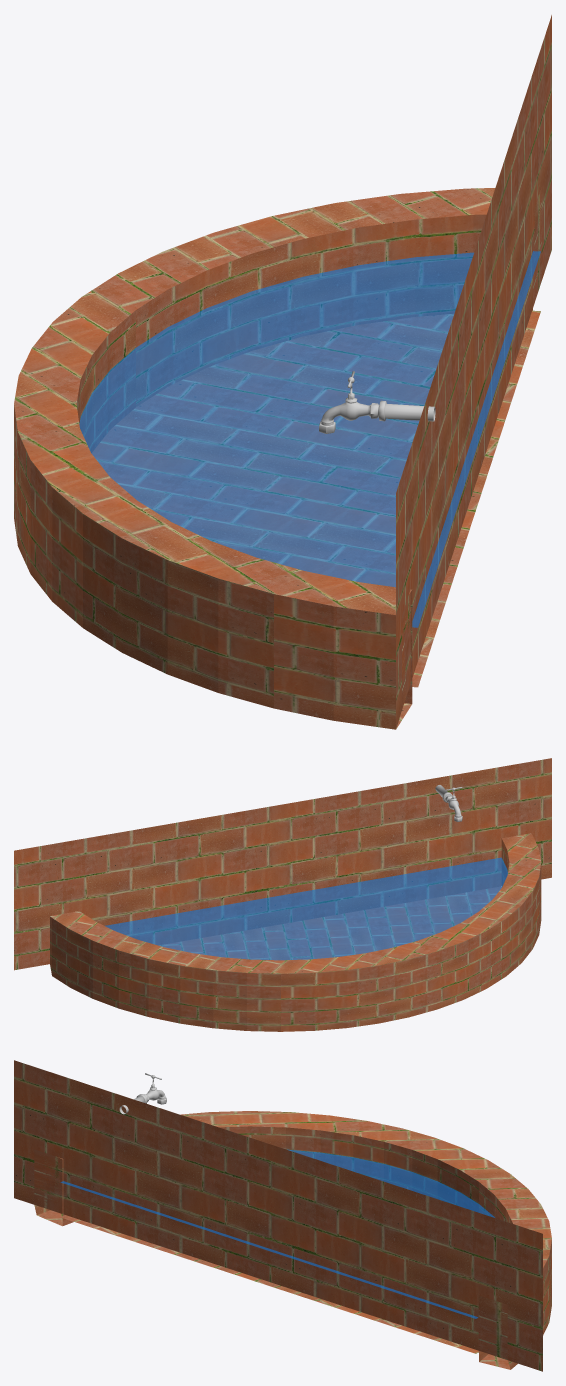
File: Oczko_wodne.fbx
The picture shows the model from 3 angles, top to bottom: view 1: azimuth 30°, elevation 25°; view 2: azimuth 150°, elevation 25°; view 3: azimuth 270°, elevation 25°; orthographic projection. The views are drawn at different scales.
Parts seen in each view (by area): view 1: Murek, Woda, murek_podwodą, Murek_na_ścianie, Kran; view 2: Murek_na_ścianie, Murek, Woda, murek_podwodą, Kran; view 3: Murek_na_ścianie, Murek, Woda, murek_podwodą, Kran.
Boxes of the visible parts, bbox=[...] form: Murek: bbox=[14, 187, 541, 729]; Woda: bbox=[79, 251, 540, 627]; murek_podwodą: bbox=[91, 310, 540, 687]; Murek_na_ścianie: bbox=[396, 15, 551, 727]; Kran: bbox=[319, 397, 435, 433]; Murek_na_ścianie: bbox=[14, 758, 551, 970]; Murek: bbox=[50, 833, 541, 1031]; Woda: bbox=[105, 857, 507, 960]; murek_podwodą: bbox=[159, 886, 501, 960]; Kran: bbox=[435, 785, 462, 821]; Murek_na_ścianie: bbox=[14, 1060, 542, 1371]; Murek: bbox=[34, 1111, 551, 1369]; Woda: bbox=[61, 1149, 494, 1318]; murek_podwodą: bbox=[60, 1215, 478, 1353]; Kran: bbox=[119, 1087, 166, 1114].
Size of the model in its own units: 2.61 by 0.9249 by 2.89.
